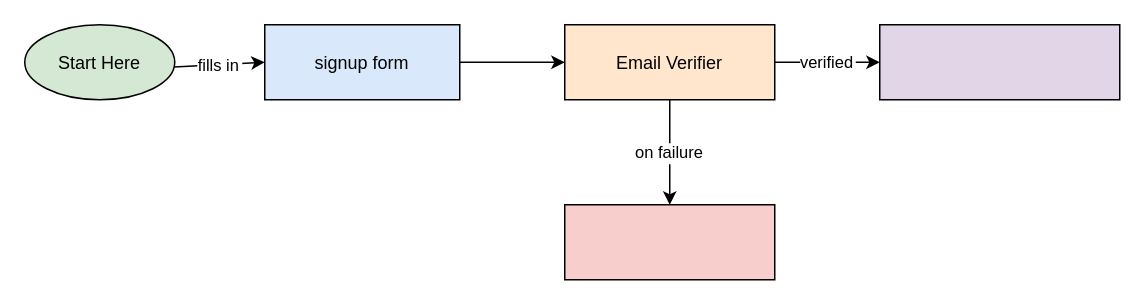
The diagram is 1145 pixels wide and 305 high, and some of its shapes have lost their labels. The shapes that lost their labels are listed below. From the top down, each one's box as (x1, y1, x2, y2) in pixels, then its label:
(878, 23, 1120, 100): Account Provisioner
(563, 203, 775, 280): NOTIFY TEAM
